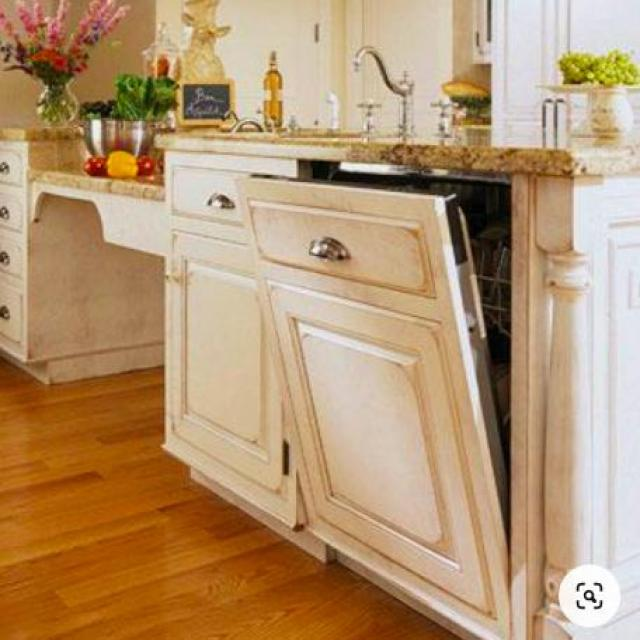dishwasher: (227, 153, 540, 640)
